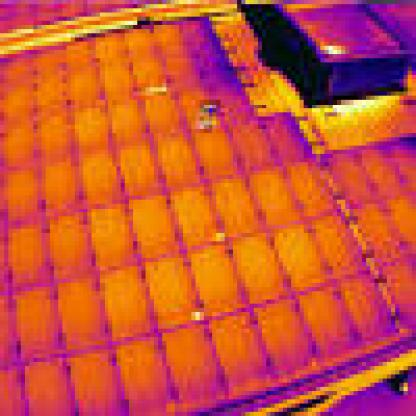Defects: (141, 79, 179, 92), (212, 229, 233, 245), (187, 308, 208, 324), (321, 42, 346, 54)
